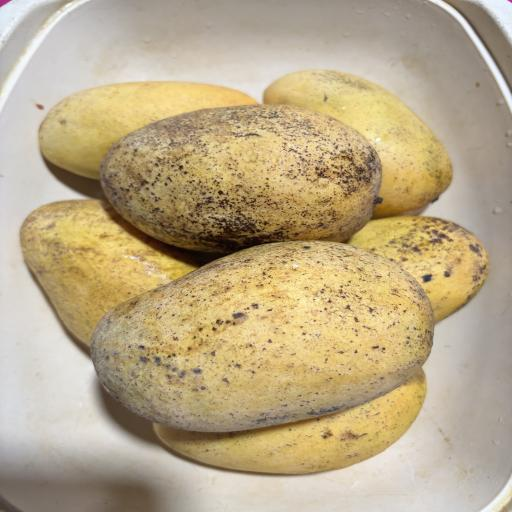fruit: (79, 234, 443, 444), (94, 102, 391, 255), (145, 364, 455, 497), (5, 195, 213, 365), (255, 61, 473, 213), (31, 69, 261, 189), (338, 191, 492, 324)
